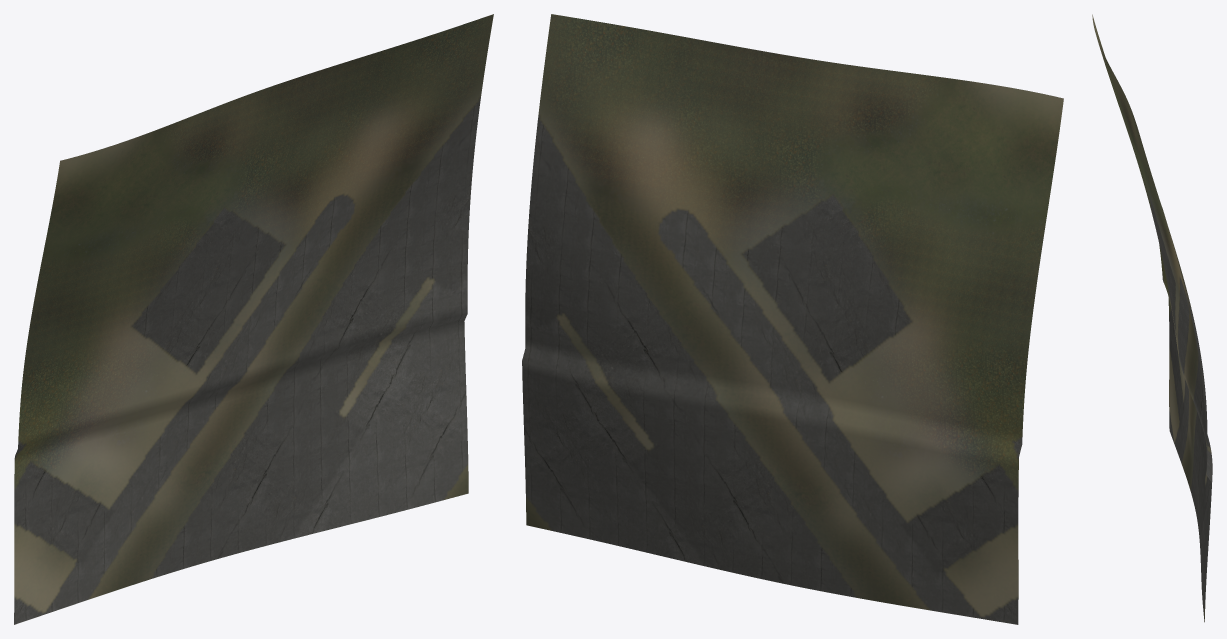
Rendered from ground_core_05_01.obj.
The picture shows the model from 3 angles, left to right: view 1: azimuth 30°, elevation 25°; view 2: azimuth 150°, elevation 25°; view 3: azimuth 270°, elevation 25°; orthographic projection. The views are drawn at different scales.
Visible parts, largest first — view 1: ground_core_05_01; view 2: ground_core_05_01; view 3: ground_core_05_01.
Part boxes in pixels (box(x1,y1,x2,y2)): ground_core_05_01: box(14, 14, 493, 624); ground_core_05_01: box(522, 14, 1063, 624); ground_core_05_01: box(1092, 14, 1212, 622).
Size of the model in its own units: 50 by 50 by 13.08.
Materials: 1 (1 with a texture image).
